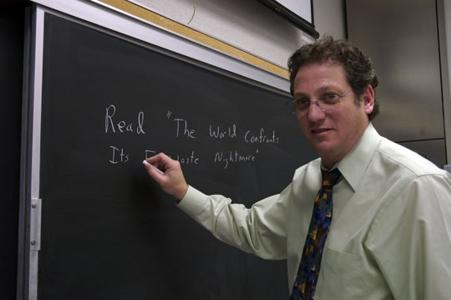person: (145, 40, 450, 298)
